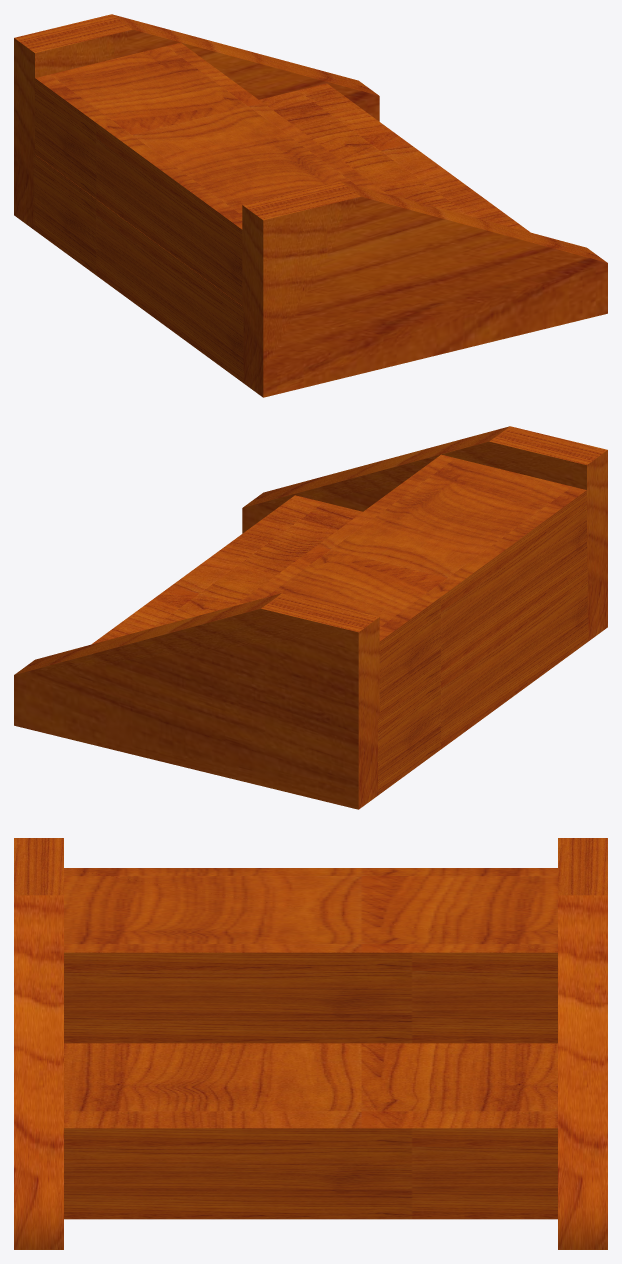
Rendered from kaidan.fbx.
3 renders of one model, top to bottom at view 1: azimuth 30°, elevation 25°; view 2: azimuth 150°, elevation 25°; view 3: azimuth 270°, elevation 25°, orthographic. The views are drawn at different scales.
Parts seen in each view (by area): view 1: pCube3, pCube1, pCube2, pCube4; view 2: pCube4, pCube1, pCube2, pCube3; view 3: pCube2, pCube1, pCube3, pCube4.
Part boxes in pixels (x1,y1,x2,y2): pCube3: [242, 181, 607, 397]; pCube1: [35, 42, 386, 305]; pCube2: [33, 83, 530, 382]; pCube4: [14, 14, 379, 229]; pCube4: [14, 593, 379, 809]; pCube1: [235, 454, 586, 717]; pCube2: [91, 495, 588, 795]; pCube3: [242, 426, 607, 641]; pCube2: [64, 1043, 557, 1219]; pCube1: [64, 868, 557, 1043]; pCube3: [14, 838, 63, 1249]; pCube4: [558, 838, 607, 1249].
Bounding box in the file's own units: 0.4733 × 0.2328 × 0.5929.
